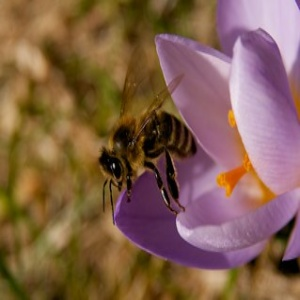bee: (98, 46, 196, 221)
